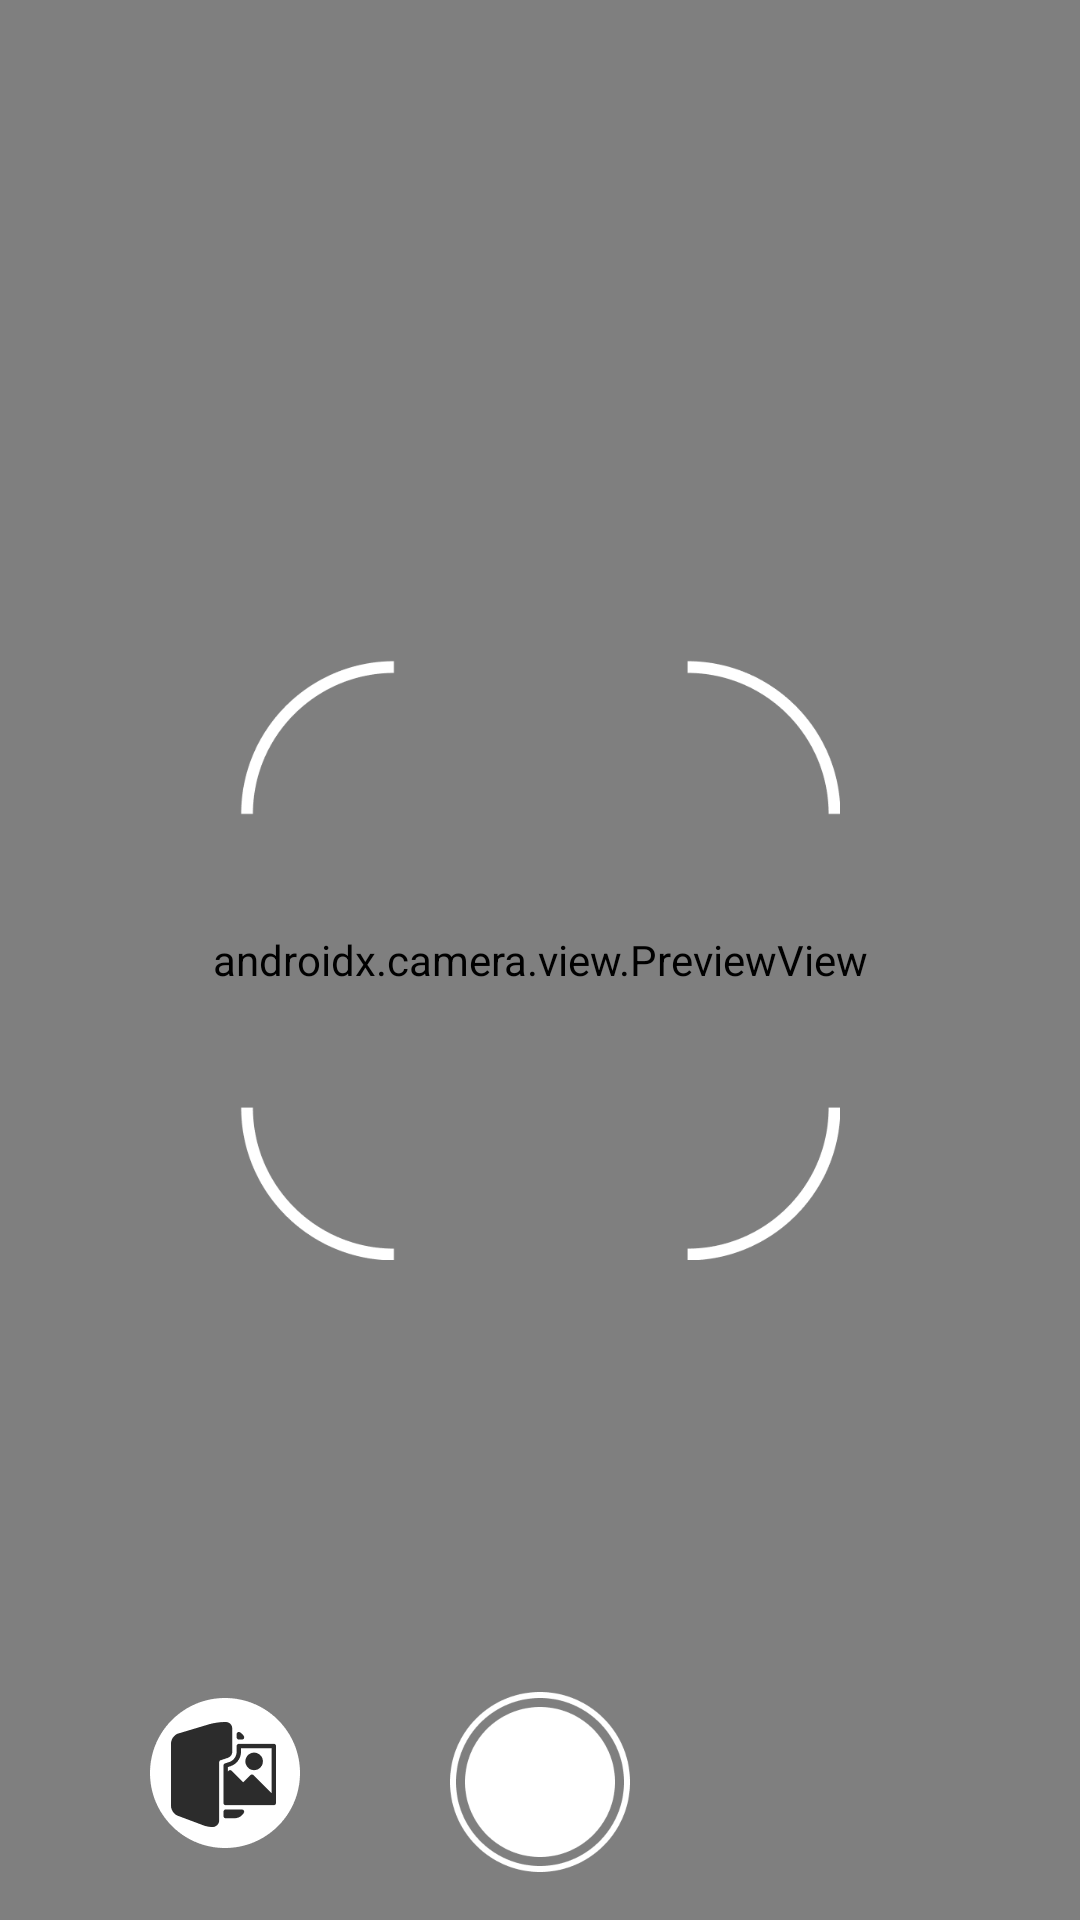

Icon click points for this 1080 x 1920 phone screenshot, format (x,y):
galeri: (225,1773)
